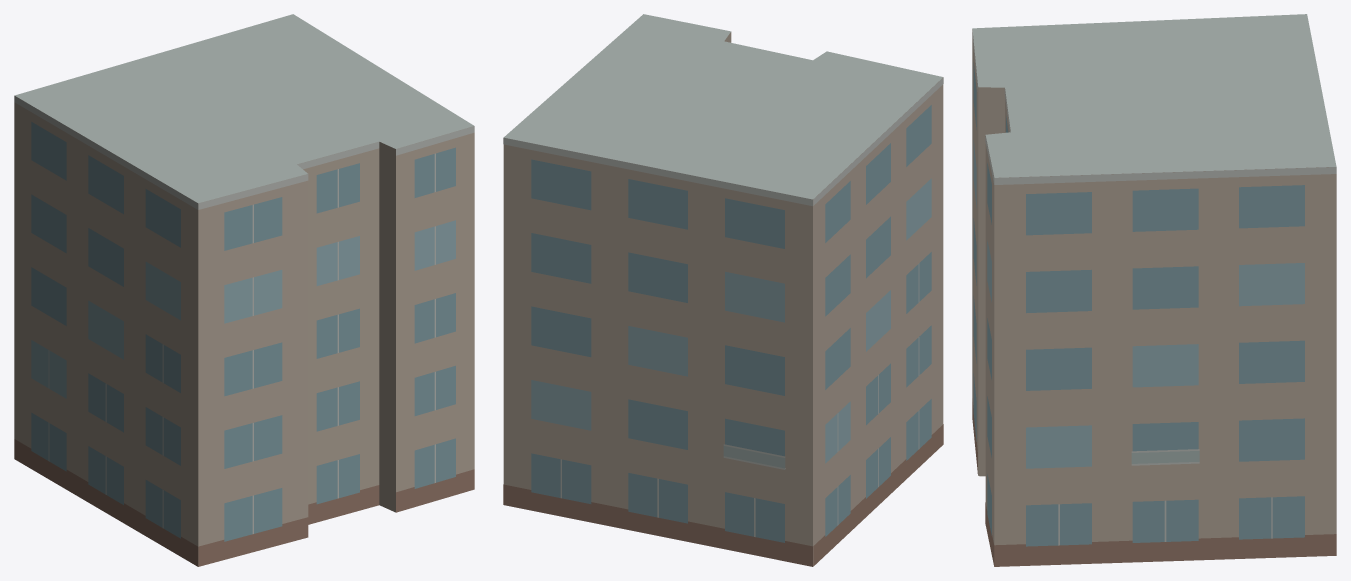
The model's file is survey-upis-32539528.glb.
3 renders of one model, left to right at view 1: azimuth 30°, elevation 25°; view 2: azimuth 150°, elevation 25°; view 3: azimuth 270°, elevation 25°, orthographic. The views are drawn at different scales.
Visible parts, largest first — view 1: survey-upis-32539528.tmp; view 2: survey-upis-32539528.tmp; view 3: survey-upis-32539528.tmp.
Boxes of the visible parts, x1,y1,x2,y2 form: survey-upis-32539528.tmp: [14, 14, 474, 566]; survey-upis-32539528.tmp: [503, 14, 943, 566]; survey-upis-32539528.tmp: [972, 14, 1336, 566].
Bounding box in the file's own units: 11.94 × 13.2 × 11.21.
